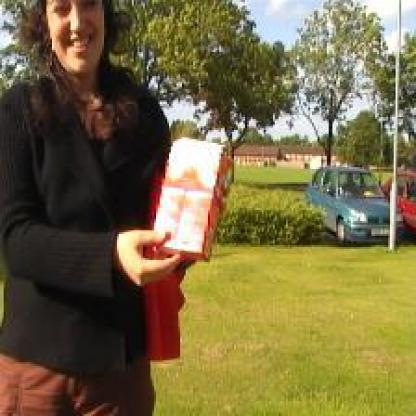other: (149, 128, 222, 354)
